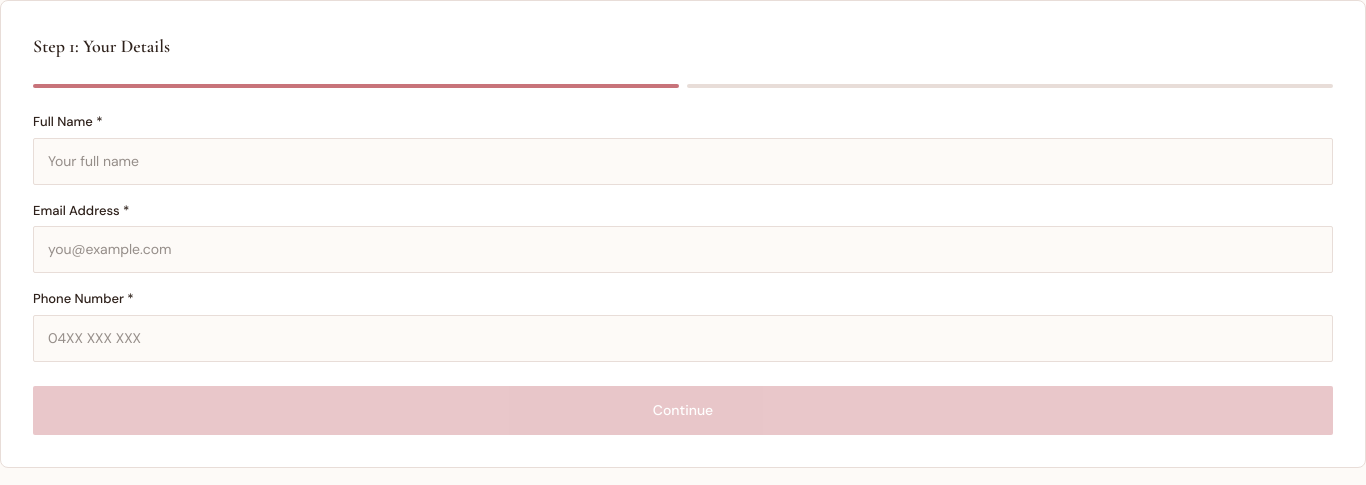
Test: ClaimForm component › back button returns to step 1
# Fill step 1
Type "John" into the field with placeholder "Your full name" at [683, 161], box [33,138,1333,184]
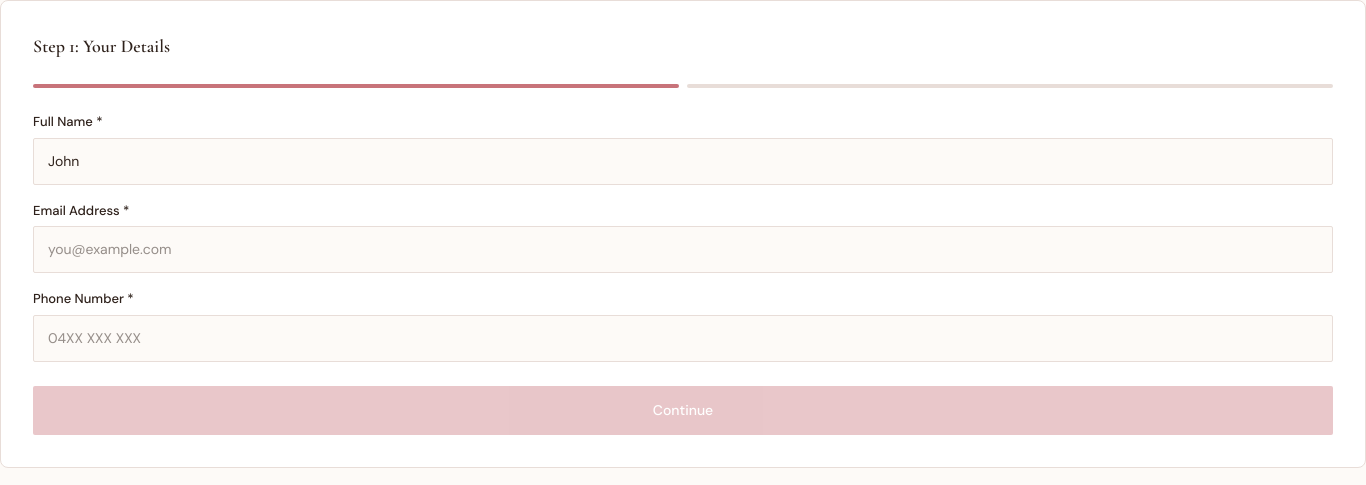
Type "j@t.com" into the field with placeholder "you@example.com" at [683, 250], box [33,226,1333,273]
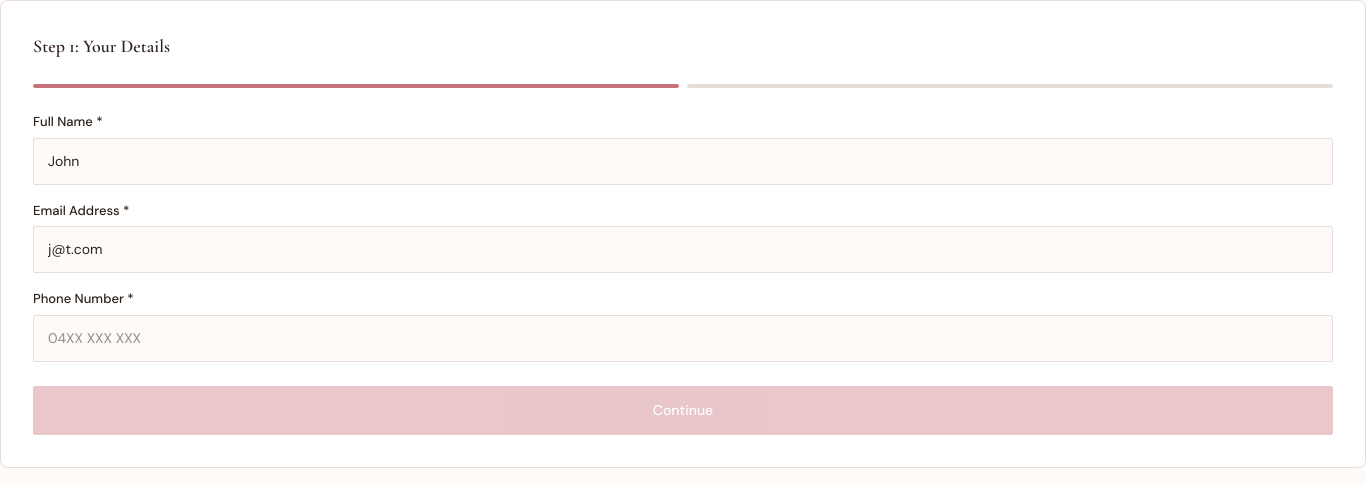
Type "0400000000" into the field with placeholder "04XX XXX XXX" at [683, 338], box [33,314,1333,362]
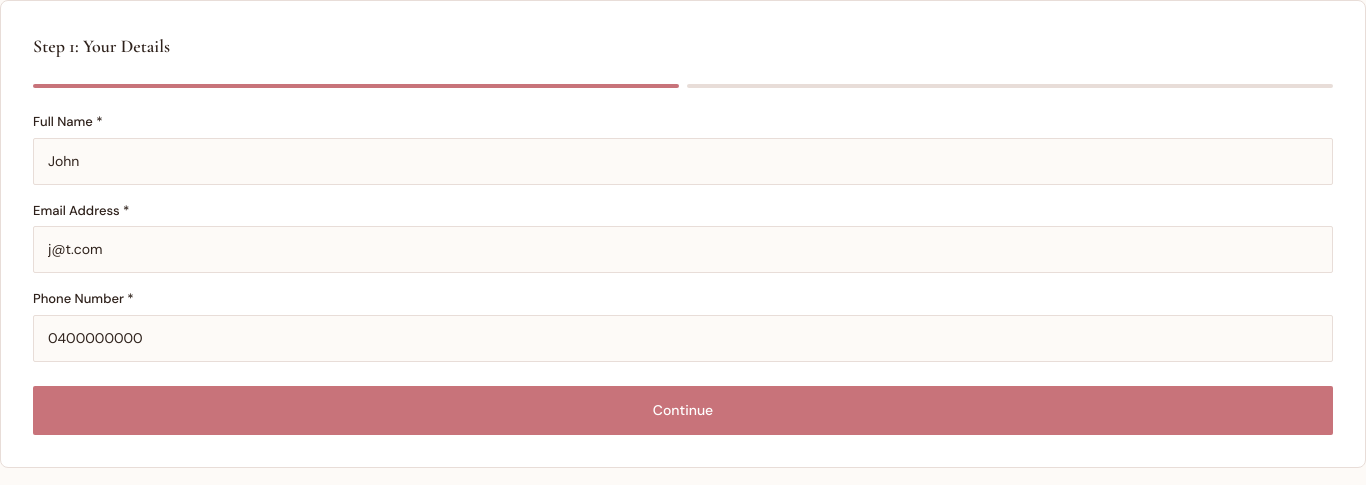
Click the button "Continue" at [683, 410], box [33,386,1333,434]
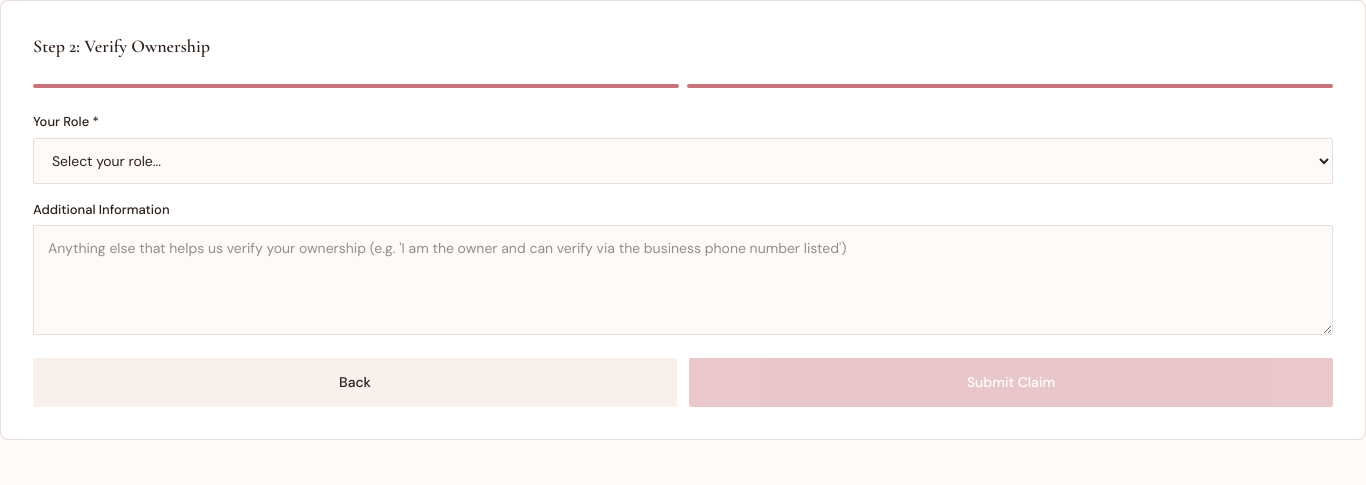
# Click back
Click the button "Back" at [355, 382], box [33,358,677,407]
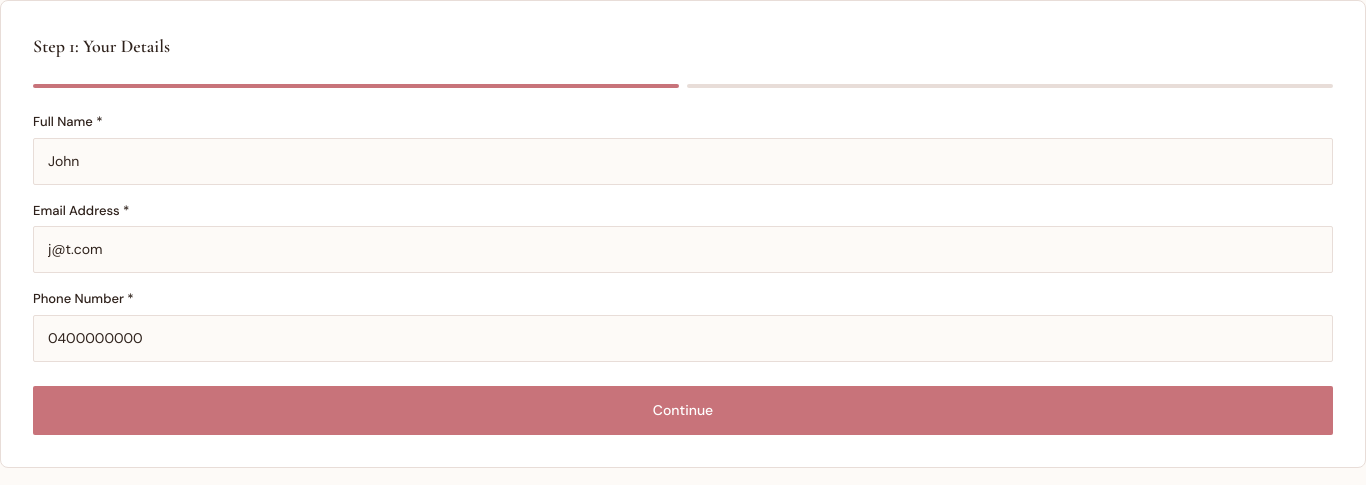
Now the heading "Step 1: Your Details" is shown, box [33,35,170,57]
